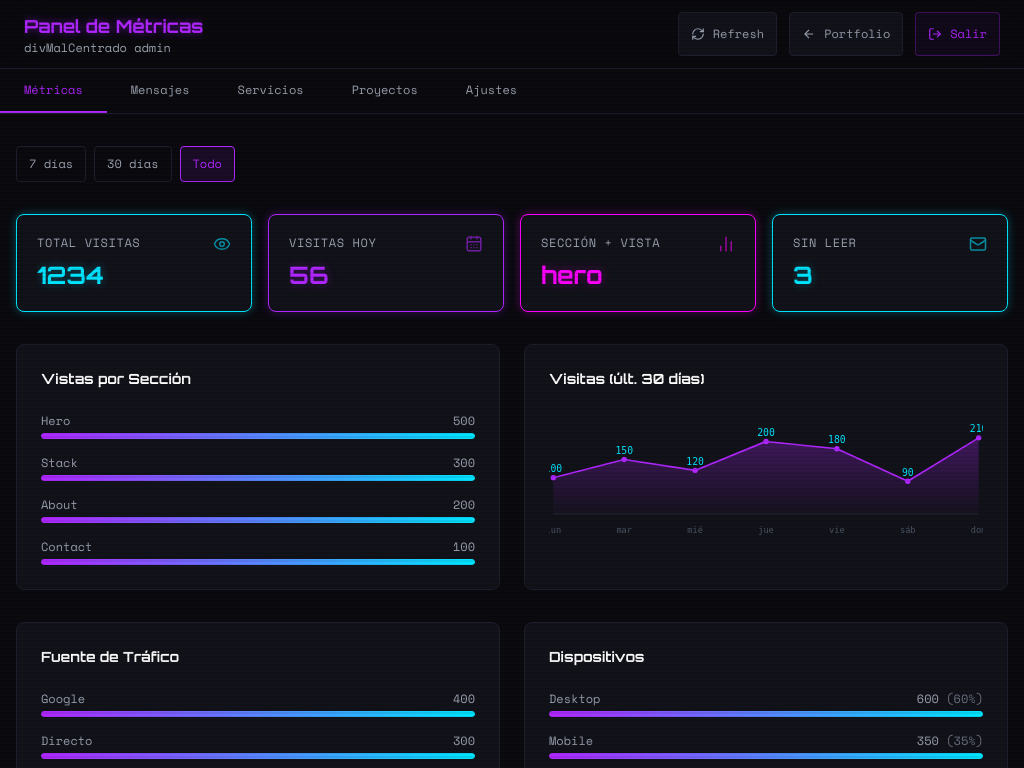
Test: Dashboard Component › switches to Proyectos tab on click
Click the button "Proyectos" at [385, 91], box [328,69,442,113]
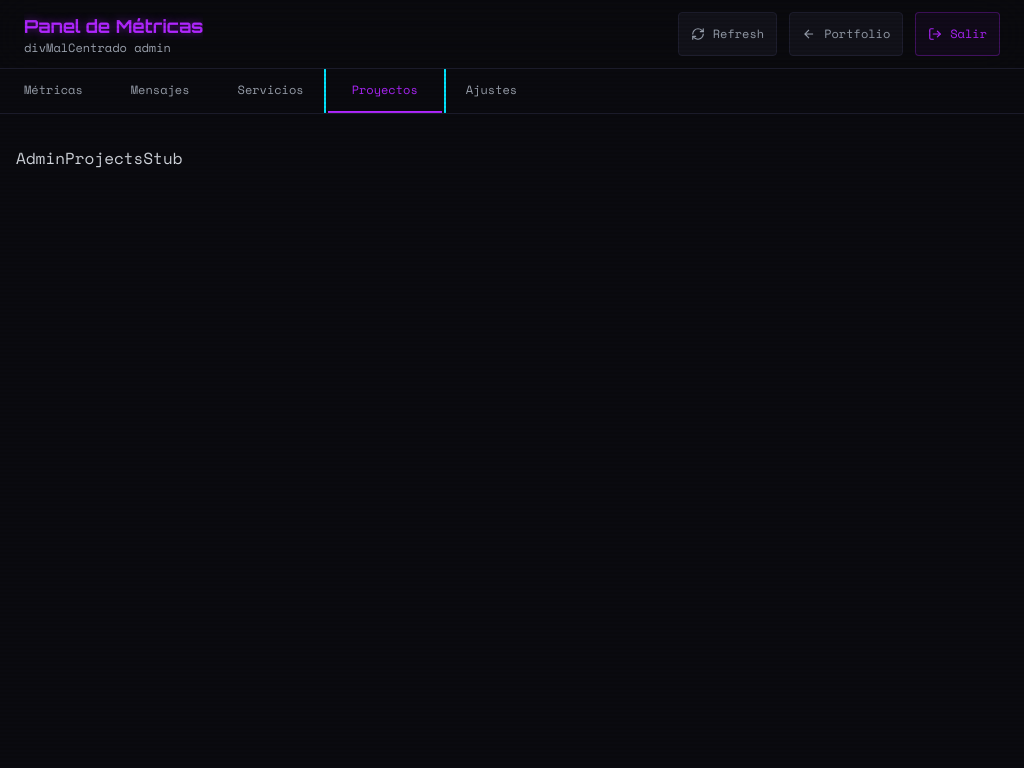
Check: the text "AdminProjectsStub" is shown, box [16,146,182,170]
